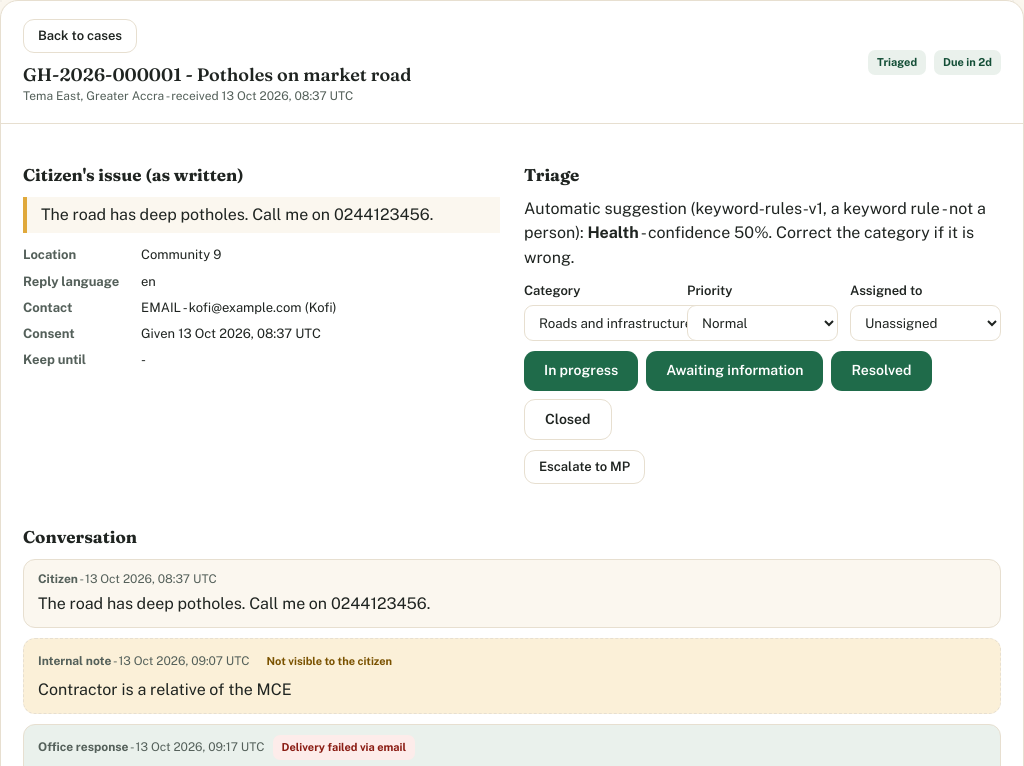
Test: Case detail › refreshes and explains when someone else changed the case first (409)
Click the button "Resolved" at (882, 371), box 831,351 -> 932,391
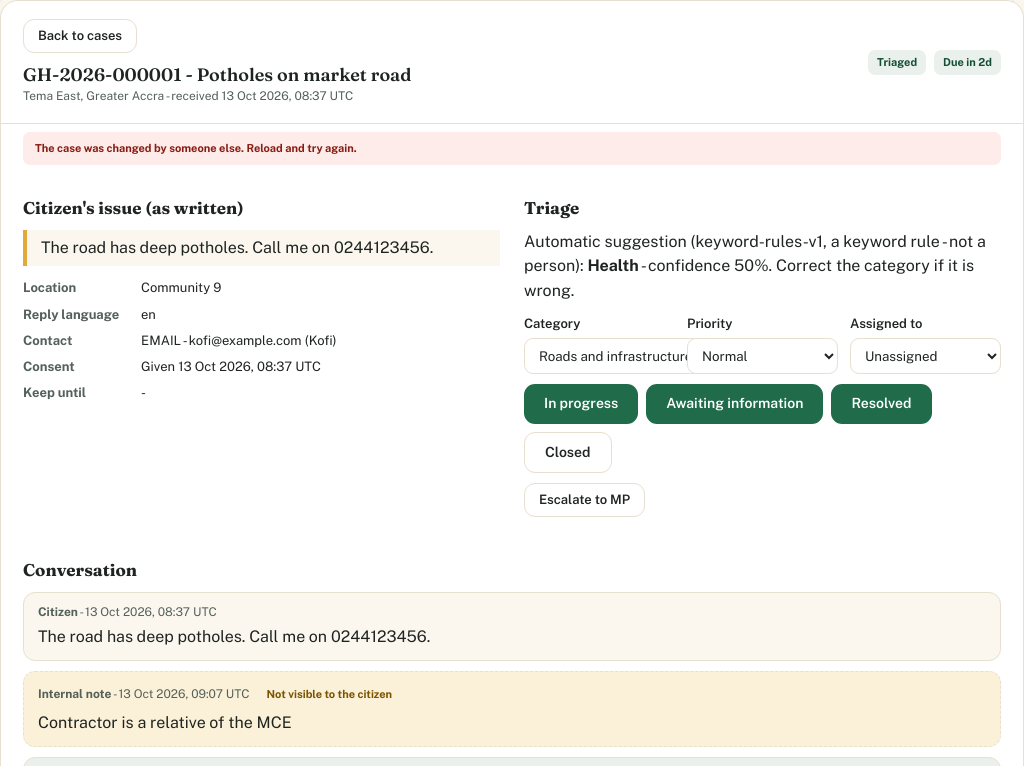
Now the message shows "changed by someone else", box 35,142 -> 357,154
